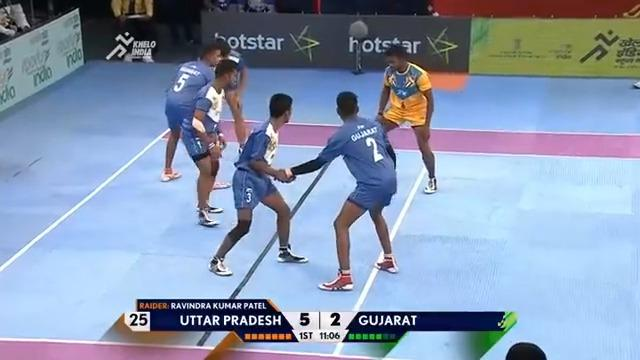Player: (276, 90, 399, 291), (207, 92, 309, 276), (179, 58, 243, 227), (159, 42, 230, 182), (374, 43, 438, 194), (214, 39, 248, 153)
referee: (110, 0, 158, 62)
